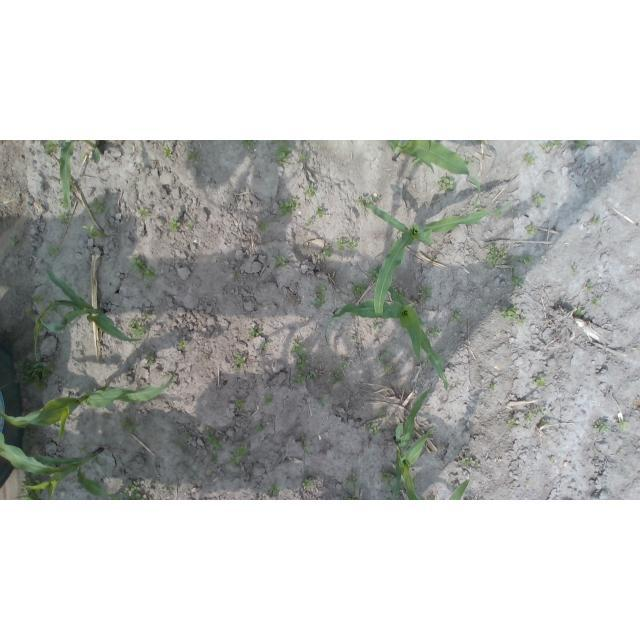Maize: (369, 202, 512, 320), (1, 366, 176, 445), (325, 286, 450, 391), (35, 265, 142, 361), (0, 432, 124, 501), (385, 140, 482, 213), (392, 388, 435, 500), (60, 140, 100, 210), (447, 480, 470, 501)
Weeds: (17, 358, 55, 394), (484, 245, 516, 271), (129, 256, 156, 281), (291, 341, 310, 370), (227, 441, 248, 467), (379, 470, 397, 493), (274, 141, 292, 164), (331, 364, 351, 384), (279, 197, 300, 216), (82, 224, 105, 240), (498, 304, 518, 322), (355, 195, 379, 210), (129, 482, 148, 500), (418, 283, 434, 304), (129, 321, 148, 338), (436, 175, 456, 191), (336, 238, 357, 253), (22, 476, 43, 491), (315, 284, 328, 308), (344, 473, 360, 492), (205, 435, 224, 450), (89, 198, 107, 213), (44, 140, 60, 156), (509, 274, 525, 289), (120, 419, 136, 434), (461, 456, 480, 468), (593, 420, 609, 434), (368, 266, 380, 284), (351, 281, 365, 296), (368, 421, 381, 436), (235, 354, 246, 371), (26, 489, 43, 500), (525, 224, 538, 237), (31, 292, 44, 305), (48, 243, 60, 257), (145, 351, 157, 365), (249, 327, 264, 338), (302, 477, 315, 489), (295, 371, 306, 385), (169, 217, 179, 232), (274, 254, 286, 266), (573, 305, 584, 318), (322, 245, 333, 258), (25, 308, 36, 321), (269, 483, 280, 496), (524, 152, 535, 164), (533, 193, 544, 205), (256, 219, 267, 231), (57, 213, 69, 224), (305, 184, 315, 197), (187, 152, 197, 165), (234, 398, 245, 409), (161, 145, 172, 156), (518, 312, 528, 324), (451, 312, 461, 324), (141, 312, 154, 321), (524, 412, 533, 425), (522, 256, 532, 267), (617, 421, 627, 432), (535, 377, 546, 387), (264, 396, 276, 405), (575, 140, 588, 148), (543, 142, 553, 152), (178, 340, 187, 351), (432, 327, 441, 338), (243, 140, 255, 148), (587, 282, 596, 292), (506, 420, 516, 429), (384, 363, 393, 373), (315, 206, 323, 217), (68, 180, 76, 191), (138, 208, 149, 216), (256, 423, 265, 432), (463, 156, 473, 164), (394, 289, 404, 297), (592, 296, 601, 304), (307, 371, 316, 379), (317, 396, 325, 405), (184, 432, 193, 440), (304, 218, 312, 226), (79, 444, 87, 452), (376, 356, 384, 364), (592, 218, 600, 226), (212, 455, 219, 464), (59, 197, 65, 207), (299, 154, 309, 160), (477, 206, 487, 212), (260, 343, 268, 350), (52, 306, 60, 313), (301, 444, 308, 452), (233, 268, 240, 276), (377, 412, 386, 418), (383, 348, 389, 357), (554, 141, 561, 148), (540, 407, 547, 413), (541, 419, 547, 426), (373, 323, 380, 329), (489, 385, 496, 391), (81, 152, 86, 160), (346, 496, 356, 500), (200, 358, 208, 363), (593, 448, 599, 454), (573, 270, 580, 275), (188, 221, 193, 228), (495, 212, 502, 217), (430, 256, 437, 261), (12, 239, 17, 245), (531, 408, 537, 413), (349, 334, 355, 339), (168, 488, 173, 493), (427, 497, 435, 500), (479, 140, 485, 144), (548, 457, 552, 462), (620, 449, 625, 452)
